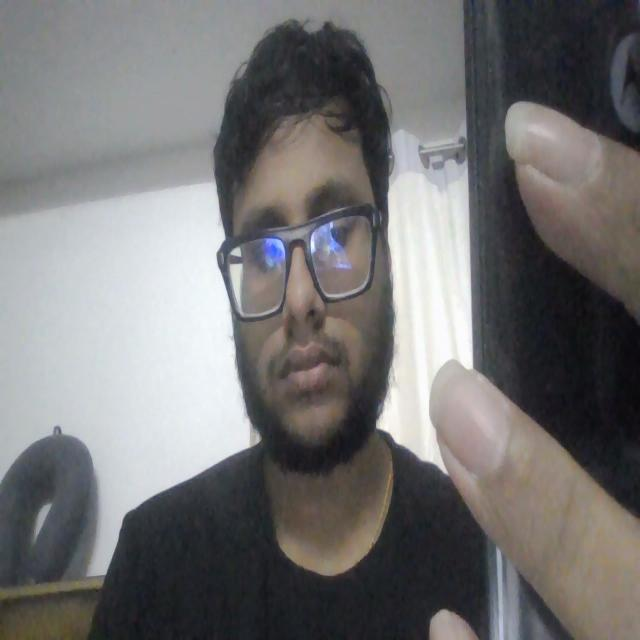phone: (465, 1, 640, 356)
